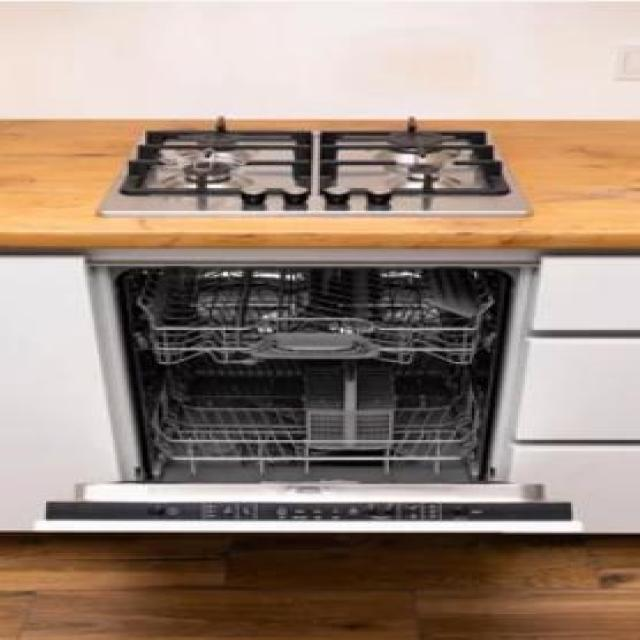dishwasher: (32, 243, 562, 531)
